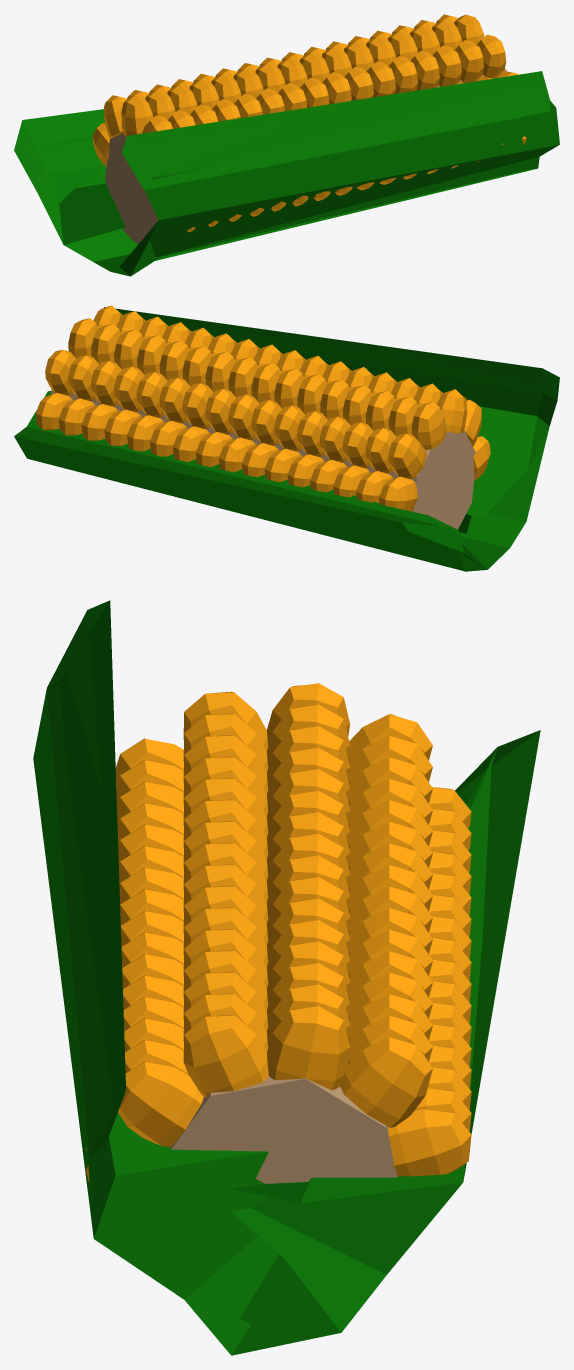
File: corn.glb
3 renders of one model, top to bottom at view 1: azimuth 30°, elevation 25°; view 2: azimuth 150°, elevation 25°; view 3: azimuth 270°, elevation 25°, orthographic. The views are drawn at different scales.
Parts seen in each view (by area): view 1: Cube.096, Cylinder, Cube, Cube.091, Cube.085, Cube.079, Cube.073, Cube.067, Cube.061, Cube.055, Cube.003, Cube.049 (+24 smaller); view 2: Cube.096, Cylinder, Cube.003, Cube, Cube.004, Cube.093, Cube.039, Cube.045, Cube.033, Cube.057, Cube.063, Cube.051 (+56 smaller); view 3: Cube.096, Cylinder.015, Cube.093, Cube.090, Cube.091, Cube.092, Cube.094, Cube.043, Cube.061, Cube.085, Cube.001, Cube.025 (+59 smaller).
Part boxes in pixels (<box>): Cube.096: <box>14,71,559,276</box>; Cylinder: <box>105,133,158,244</box>; Cube: <box>121,95,153,136</box>; Cube.091: <box>477,34,506,77</box>; Cube.085: <box>455,40,483,82</box>; Cube.079: <box>432,45,461,86</box>; Cube.073: <box>410,51,439,90</box>; Cube.067: <box>388,56,417,93</box>; Cube.061: <box>366,61,395,97</box>; Cube.055: <box>344,67,373,100</box>; Cube.003: <box>104,95,126,138</box>; Cube.049: <box>322,72,351,104</box>; Cube.096: <box>14,307,559,571</box>; Cylinder: <box>394,430,475,529</box>; Cube.003: <box>388,433,426,479</box>; Cube: <box>411,402,446,449</box>; Cube.004: <box>379,476,417,511</box>; Cube.093: <box>45,350,75,395</box>; Cube.039: <box>251,400,282,445</box>; Cube.045: <box>228,394,259,440</box>; Cube.033: <box>274,405,304,451</box>; Cube.057: <box>182,383,213,428</box>; Cube.063: <box>159,377,190,423</box>; Cube.051: <box>205,389,236,434</box>; Cube.096: <box>33,600,540,1355</box>; Cylinder.015: <box>171,1076,397,1183</box>; Cube.093: <box>339,1037,432,1127</box>; Cube.090: <box>267,1006,350,1090</box>; Cube.091: <box>183,1014,268,1097</box>; Cube.092: <box>118,1061,203,1146</box>; Cube.094: <box>388,1109,471,1176</box>; Cube.043: <box>183,842,268,901</box>; Cube.061: <box>183,907,268,966</box>; Cube.085: <box>183,993,268,1052</box>; Cube.001: <box>183,691,268,751</box>; Cube.025: <box>183,777,268,837</box>.
Size of the model in its own units: 0.3524 by 0.1195 by 0.1693.
